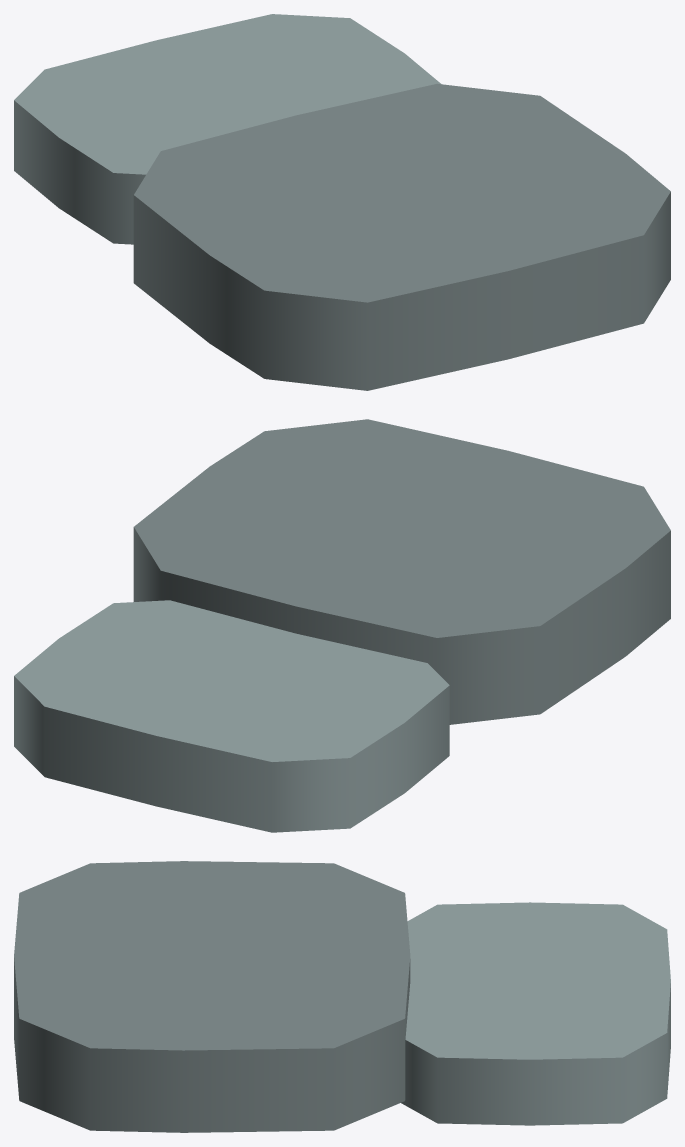
The model's file is tile02_s02.FBX.
The picture shows the model from 3 angles, top to bottom: view 1: azimuth 30°, elevation 25°; view 2: azimuth 150°, elevation 25°; view 3: azimuth 270°, elevation 25°; orthographic projection. The views are drawn at different scales.
Parts seen in each view (by area): view 1: tile02_s02; view 2: tile02_s02; view 3: tile02_s02.
Boxes of the visible parts, x1,y1,x2,y2 form: tile02_s02: [14, 14, 670, 390]; tile02_s02: [14, 419, 670, 832]; tile02_s02: [14, 861, 670, 1132].
Size of the model in its own units: 132 by 193 by 29.55.
1 material, 1 textured.
